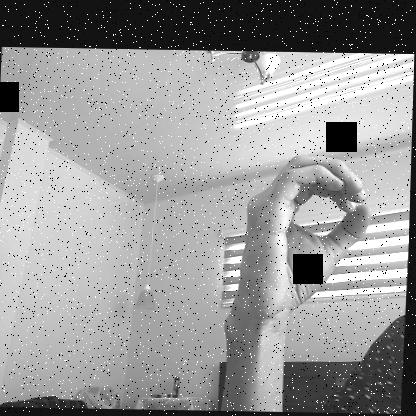O: (233, 150, 378, 324)
